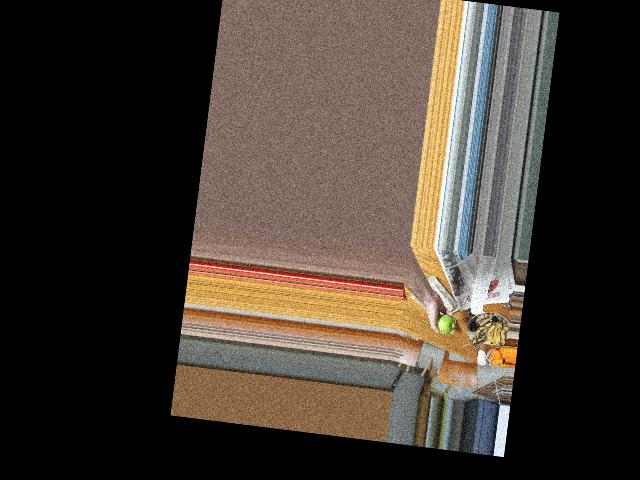apple: (432, 310, 455, 336)
